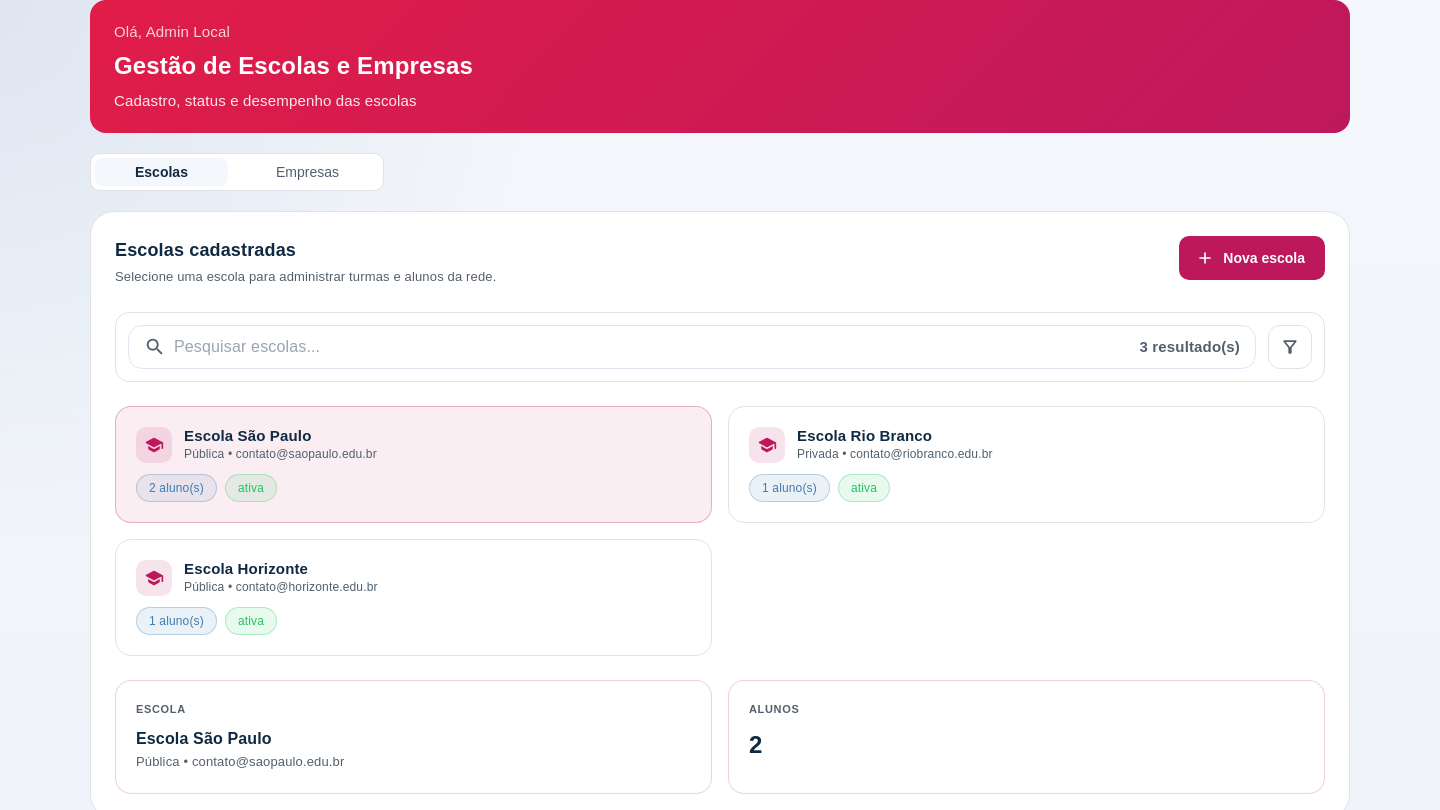
SchoolCompanyPage toggles to empresa view
Click the button with test id "toggle-empresa" at coordinates (307, 172), box [236, 158, 379, 186]
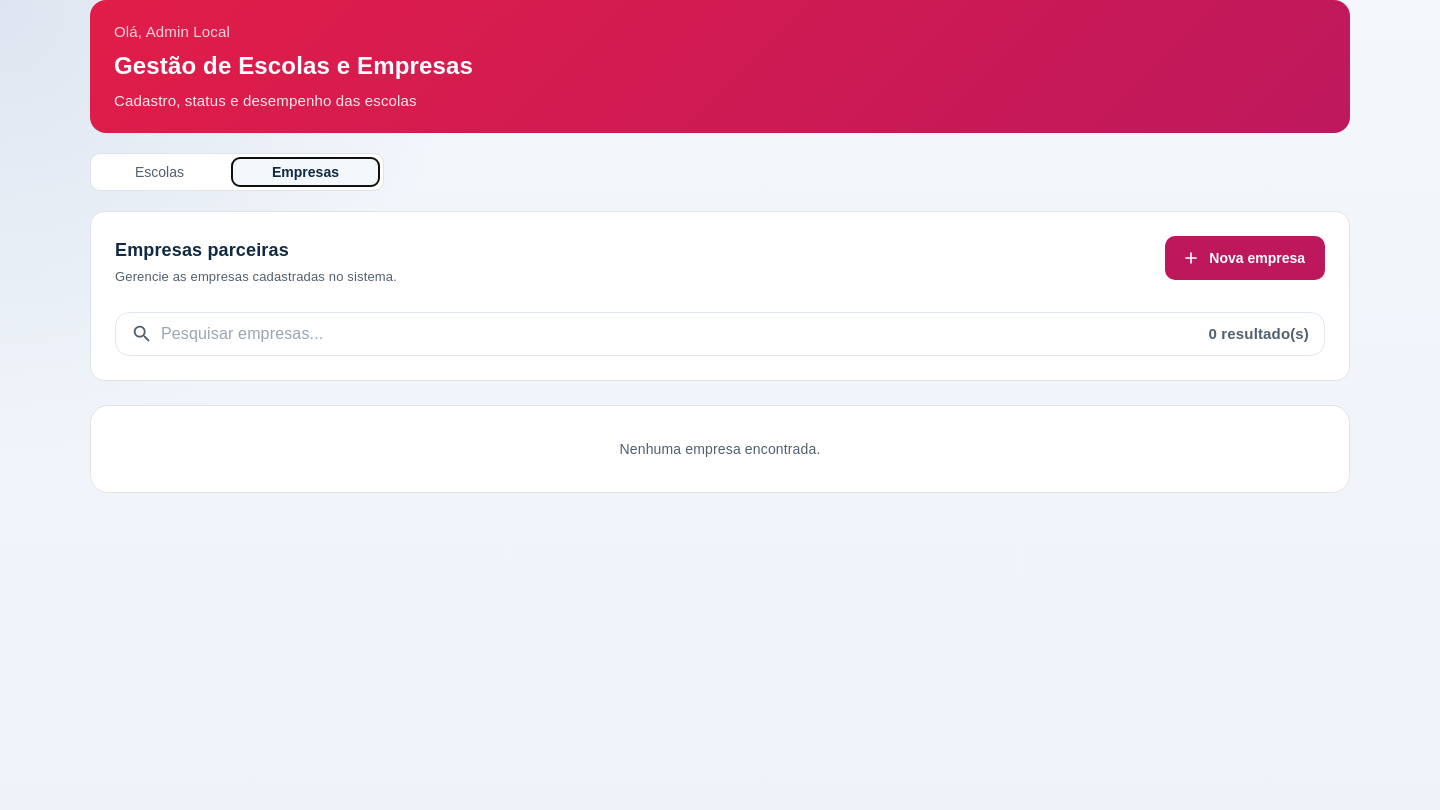
Expected: the element with test id "empresa-view" is shown, [90, 211, 1350, 493]
